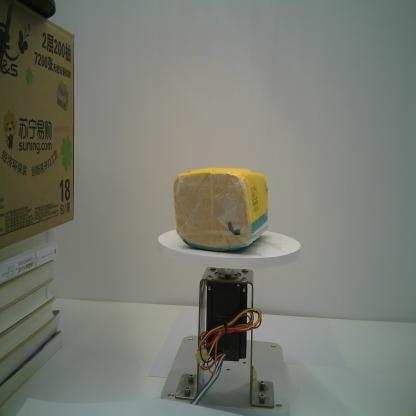Tissue: (172, 165, 270, 254)
